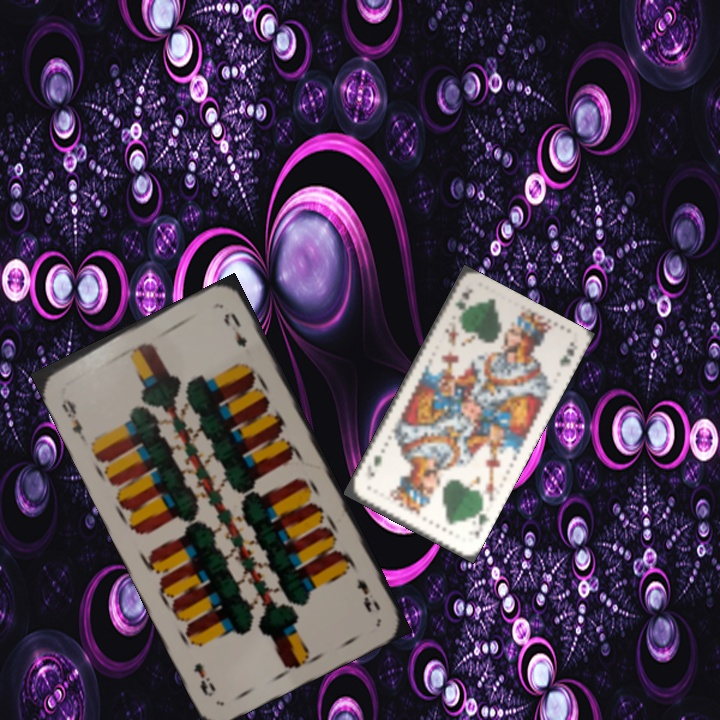E9: (57, 394, 88, 442), (352, 574, 383, 615)
GK: (470, 504, 492, 540), (451, 285, 475, 313)
